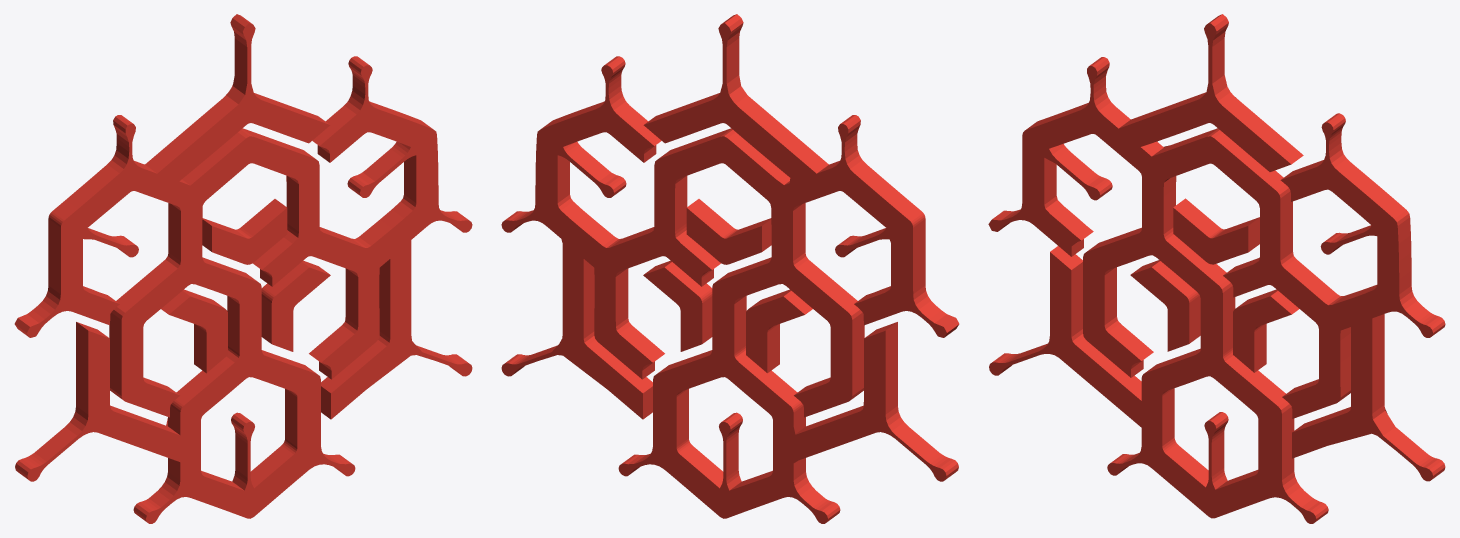
File: GRAF_3_17.glb
3 renders of one model, left to right at view 1: azimuth 30°, elevation 25°; view 2: azimuth 150°, elevation 25°; view 3: azimuth 330°, elevation 25°, orthographic.
Parts seen in each view (by area): view 1: Curve.005; view 2: Curve.005; view 3: Curve.005.
Boxes of the visible parts, <box> form: Curve.005: <box>14,14,472,523</box>; Curve.005: <box>501,14,959,523</box>; Curve.005: <box>988,14,1445,523</box>.
Size of the model in its own units: 3.45 by 3.67 by 0.1666.
